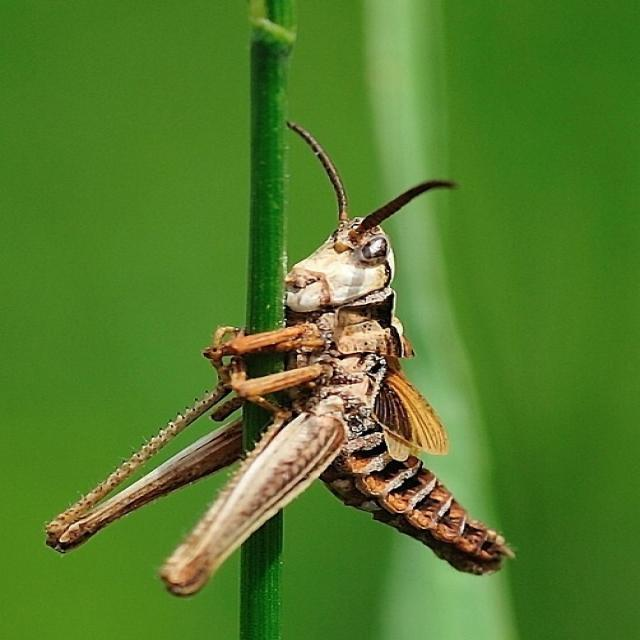ZhaMeng: (46, 152, 466, 607)
